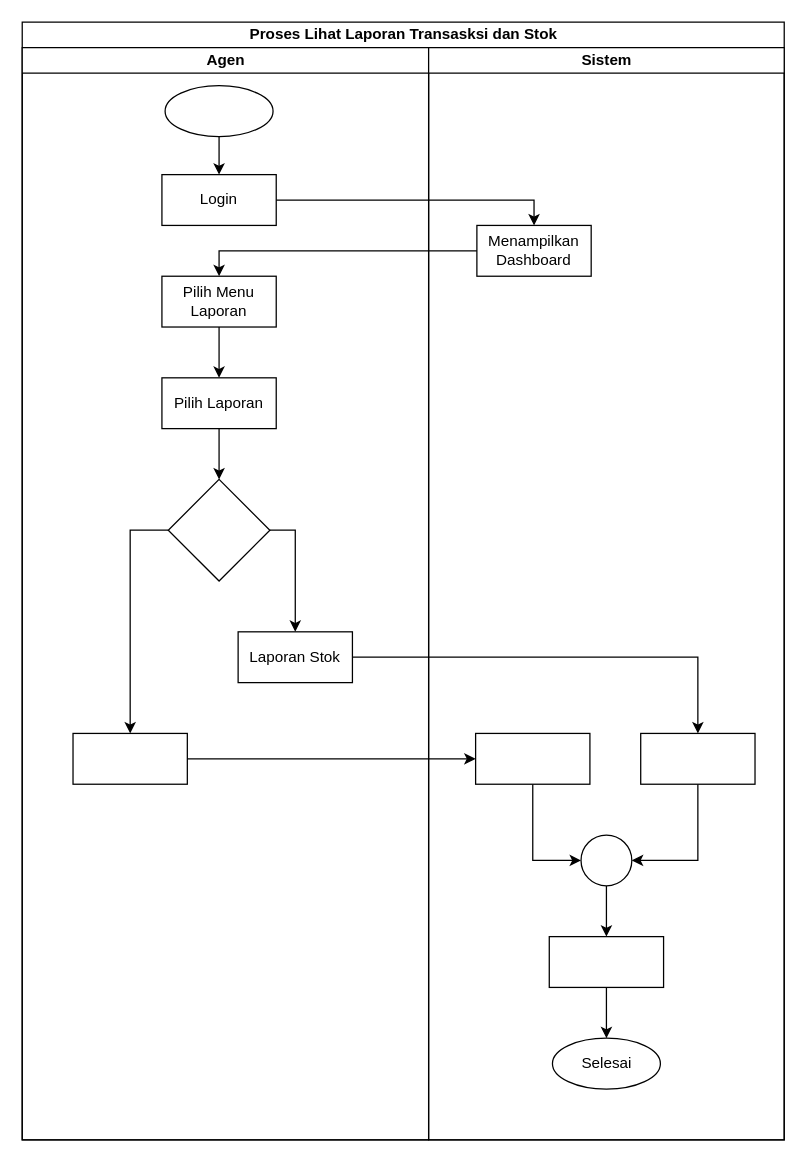
Image size: 806x1162. Some labels were removed from this diagram. The shapes that lost their labels are listed below. From the top down, each one's centre as x and y in pixels, then its label:
At (218,110): "Mulai".
At (129,758): "Laporan Transaksi".
At (532,758): "Filter Data Laporan".
At (697,758): "Tampilkan Status Stok".
At (606,961): "Tampilkan Laporan".
